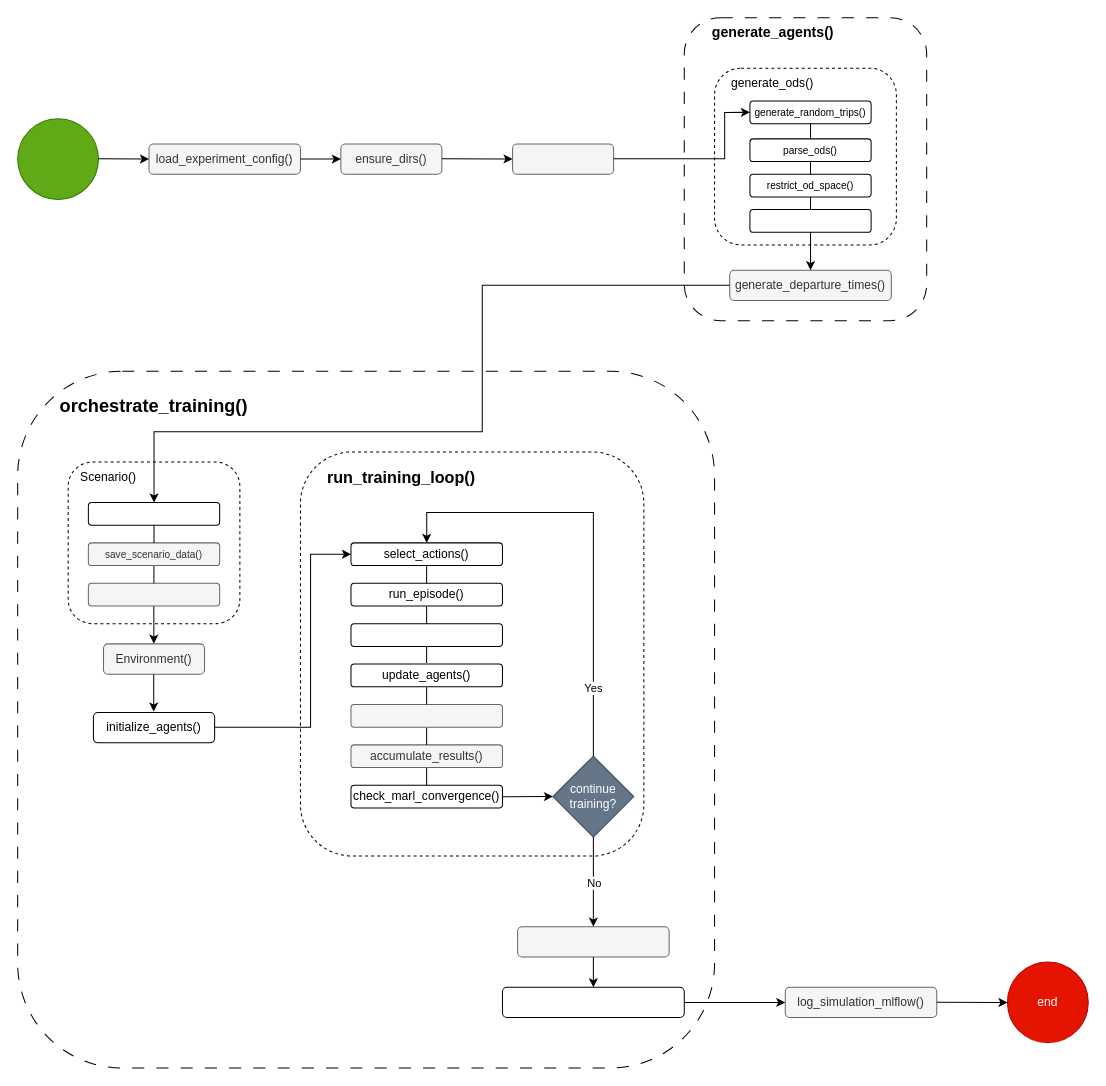
The diagram is 1106 pixels wide and 1086 high, and some of its shapes have lost their labels. Here are the shapes that lost their labels. From the top down, the centre of each, then its label:
At point 57,158: "start".
At point 563,158: "set_up_mlflow()".
At point 810,220: "sample_ods()".
At point 153,513: "compute_k_routes()".
At point 153,594: "create_sumo_config()".
At point 426,634: "get_rewards()".
At point 426,715: "prepare_data()".
At point 593,941: "save_processed_data()".
At point 592,1002: "check_due_state_convergence()".
